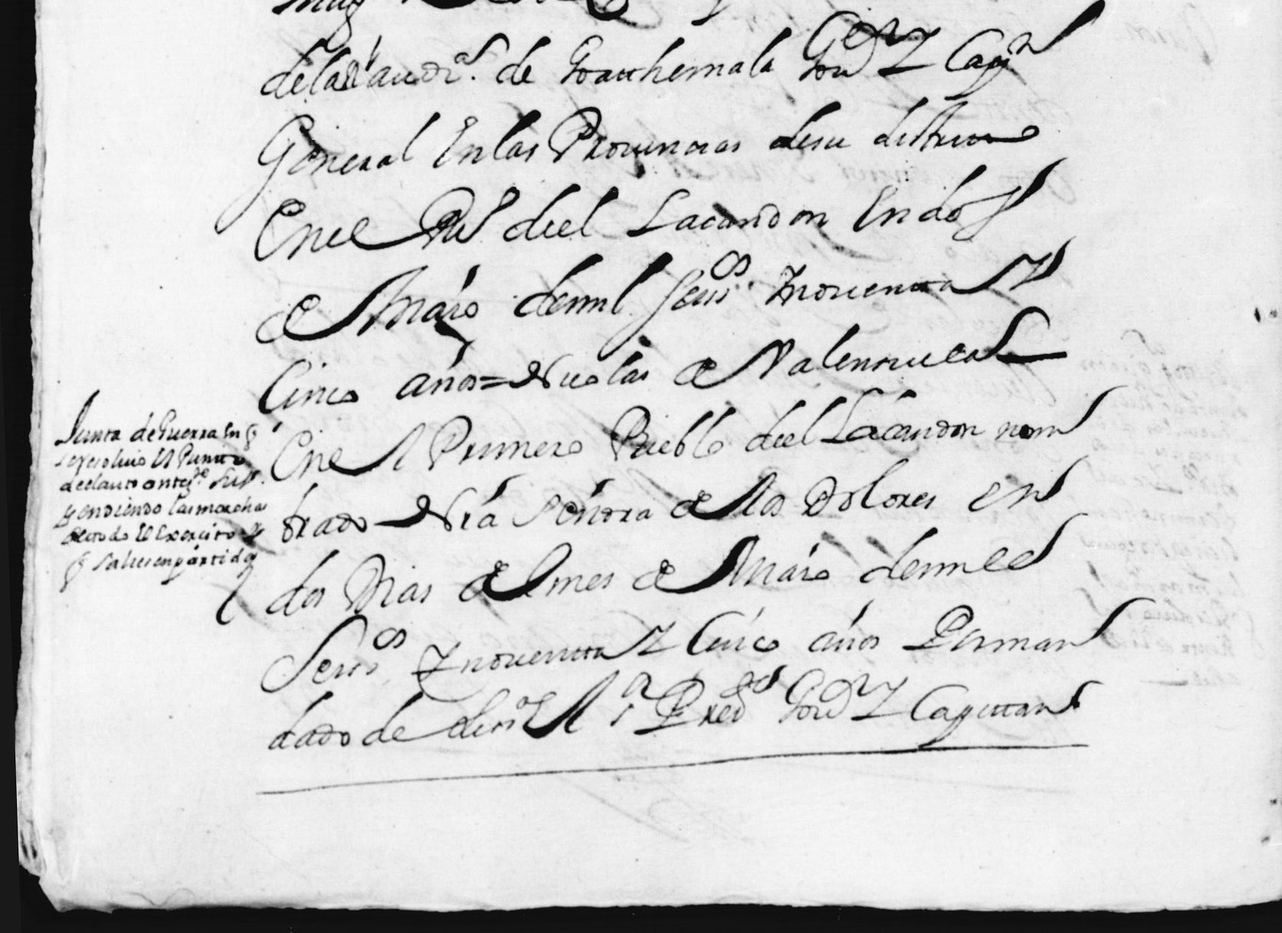lacandon: (626, 188, 828, 237), (820, 387, 985, 444)
